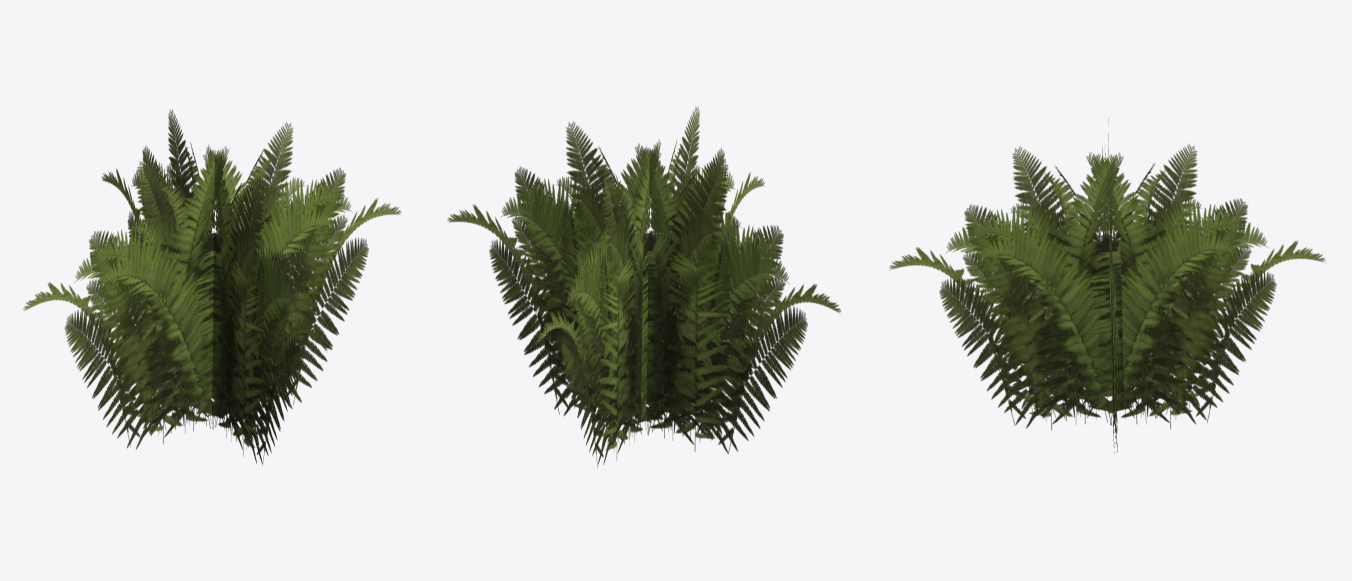
Rendered from low_poly_shrub.glb.
3 renders of one model, left to right at view 1: azimuth 30°, elevation 25°; view 2: azimuth 150°, elevation 25°; view 3: azimuth 270°, elevation 25°, orthographic. The views are drawn at different scales.
Visible parts, largest first — view 1: pPlane8, pPlane5, pPlane7, pPlane6; view 2: pPlane5, pPlane8, pPlane6, pPlane7; view 3: pPlane6, pPlane7, pPlane8.
Boxes of the visible parts, x1=… form: pPlane8: x1=65, y1=122, x2=401, y2=449; pPlane5: x1=23, y1=149, x2=368, y2=446; pPlane7: x1=127, y1=142, x2=327, y2=465; pPlane6: x1=101, y1=109, x2=301, y2=463; pPlane5: x1=489, y1=147, x2=841, y2=454; pPlane8: x1=447, y1=121, x2=807, y2=453; pPlane6: x1=536, y1=141, x2=736, y2=467; pPlane7: x1=561, y1=106, x2=764, y2=464; pPlane6: x1=939, y1=144, x2=1325, y2=429; pPlane7: x1=889, y1=146, x2=1276, y2=430; pPlane8: x1=1102, y1=147, x2=1119, y2=452.
Size of the model in its own units: 1.1 by 1.02 by 1.14.
Materials: 1 (1 with a texture image).
